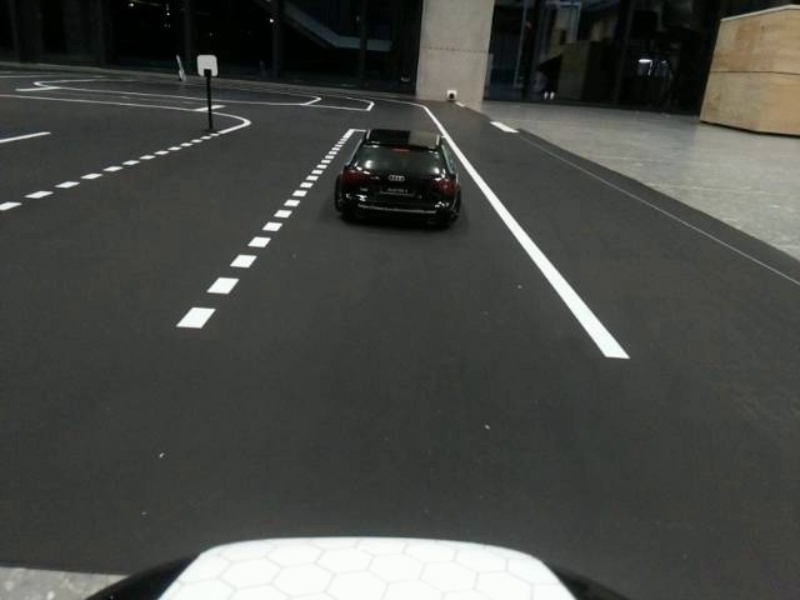car: (329, 123, 464, 238)
